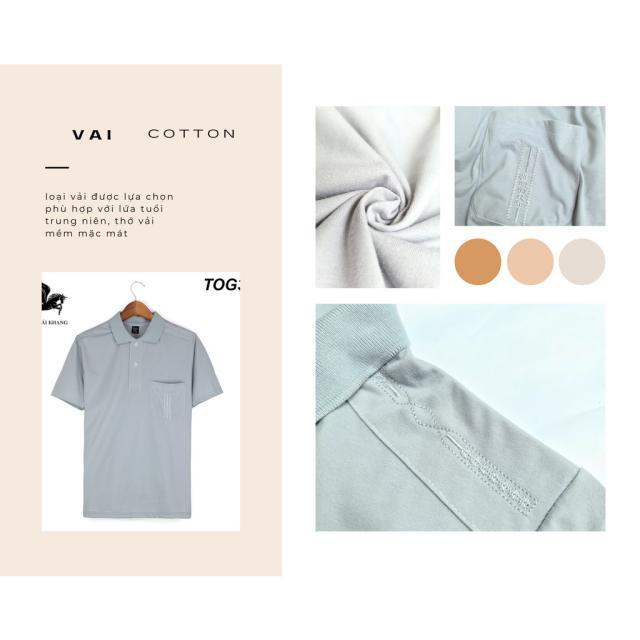Shirt: (50, 307, 224, 529)
